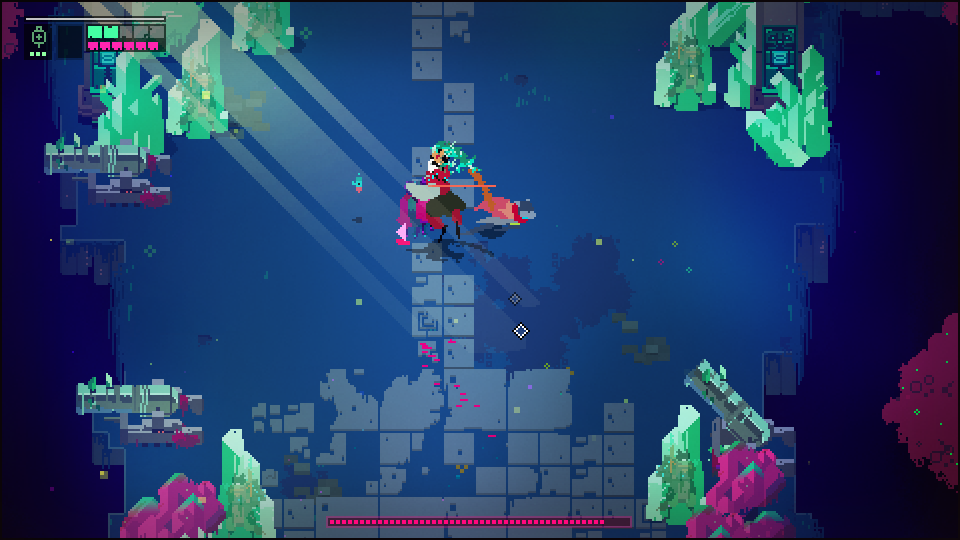hanged_man: (405, 136, 486, 246)
player: (472, 191, 542, 234)
